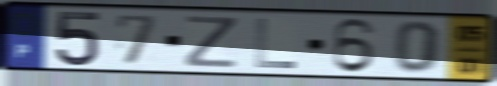0: (391, 19, 443, 76)
5: (52, 9, 103, 68)
6: (331, 16, 377, 75)
7: (113, 12, 160, 66)
L: (253, 17, 299, 71)
Z: (181, 14, 241, 70)
